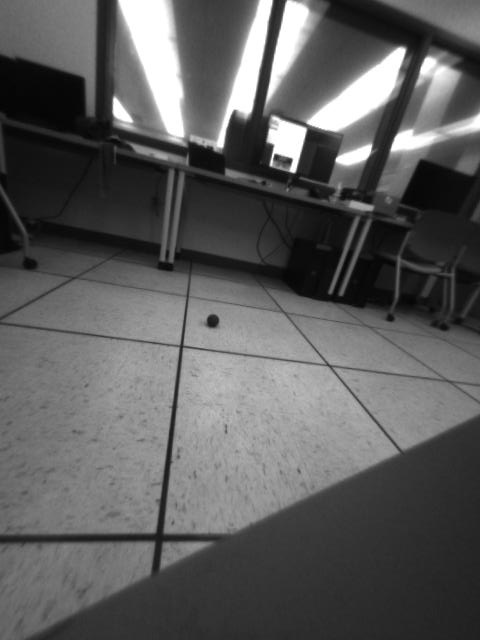dogtoy: (203, 309, 227, 332)
